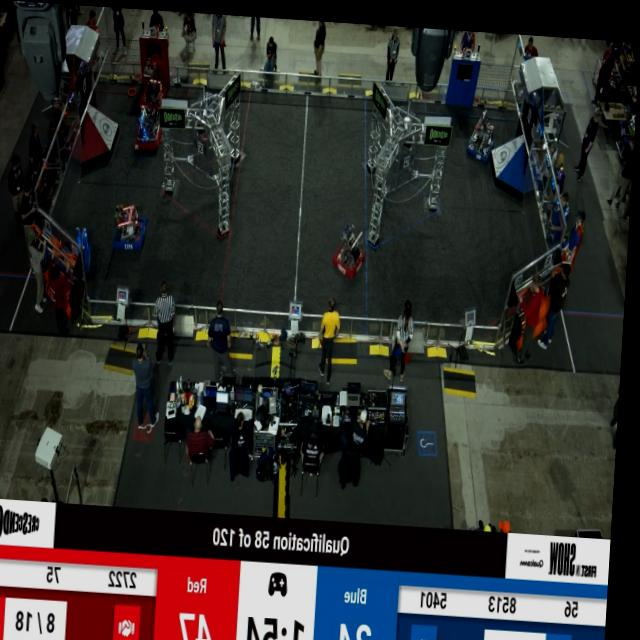Robot: (58, 218, 100, 287), (333, 217, 368, 279), (138, 50, 171, 112), (116, 197, 151, 253), (467, 102, 498, 159), (137, 101, 167, 150)
